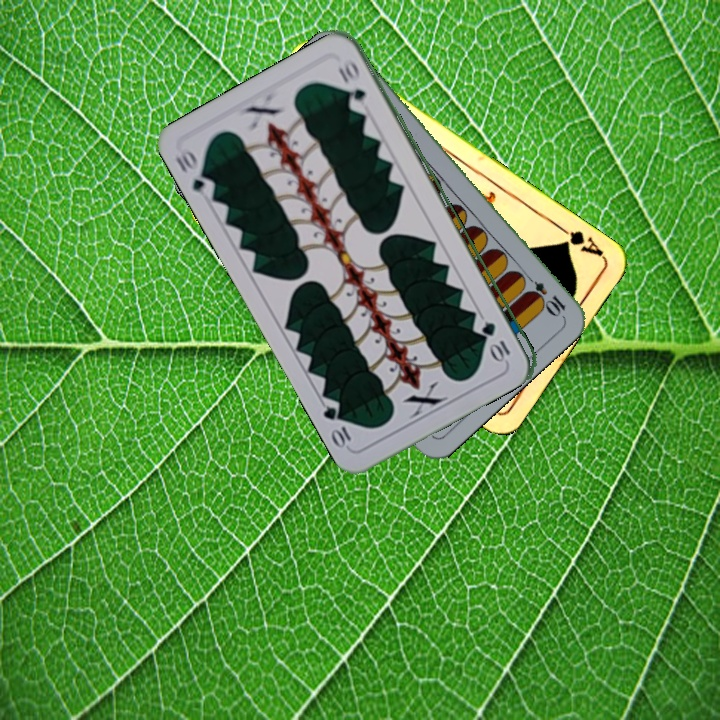E10: (519, 269, 568, 318)
G10: (171, 146, 218, 201), (480, 318, 513, 363)
GA: (553, 220, 606, 260)
